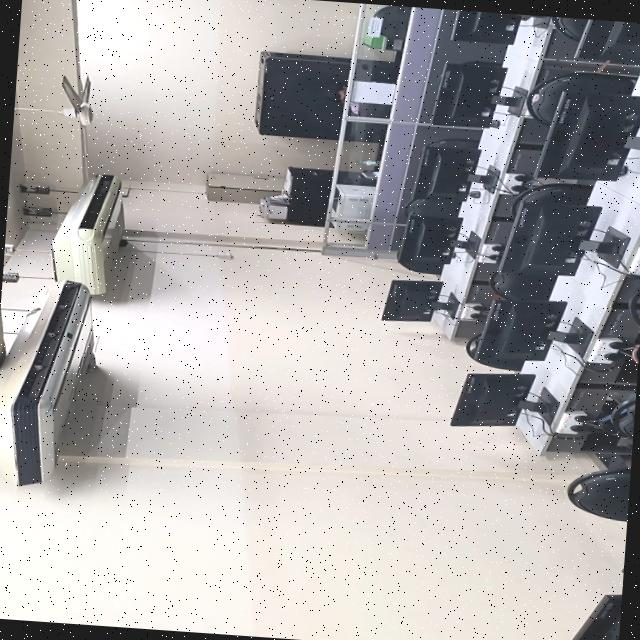Ac: (0, 277, 95, 489), (44, 168, 132, 288)
Chair: (560, 460, 630, 525), (487, 270, 554, 300), (520, 74, 558, 126), (604, 394, 636, 442), (550, 16, 586, 42), (454, 334, 478, 358)
Monitor: (498, 196, 632, 280), (528, 88, 640, 186), (470, 293, 590, 365), (446, 368, 564, 434), (408, 139, 502, 203), (434, 59, 514, 128), (392, 208, 484, 266), (374, 276, 464, 328), (444, 8, 552, 49), (560, 587, 621, 640), (577, 18, 640, 62)
